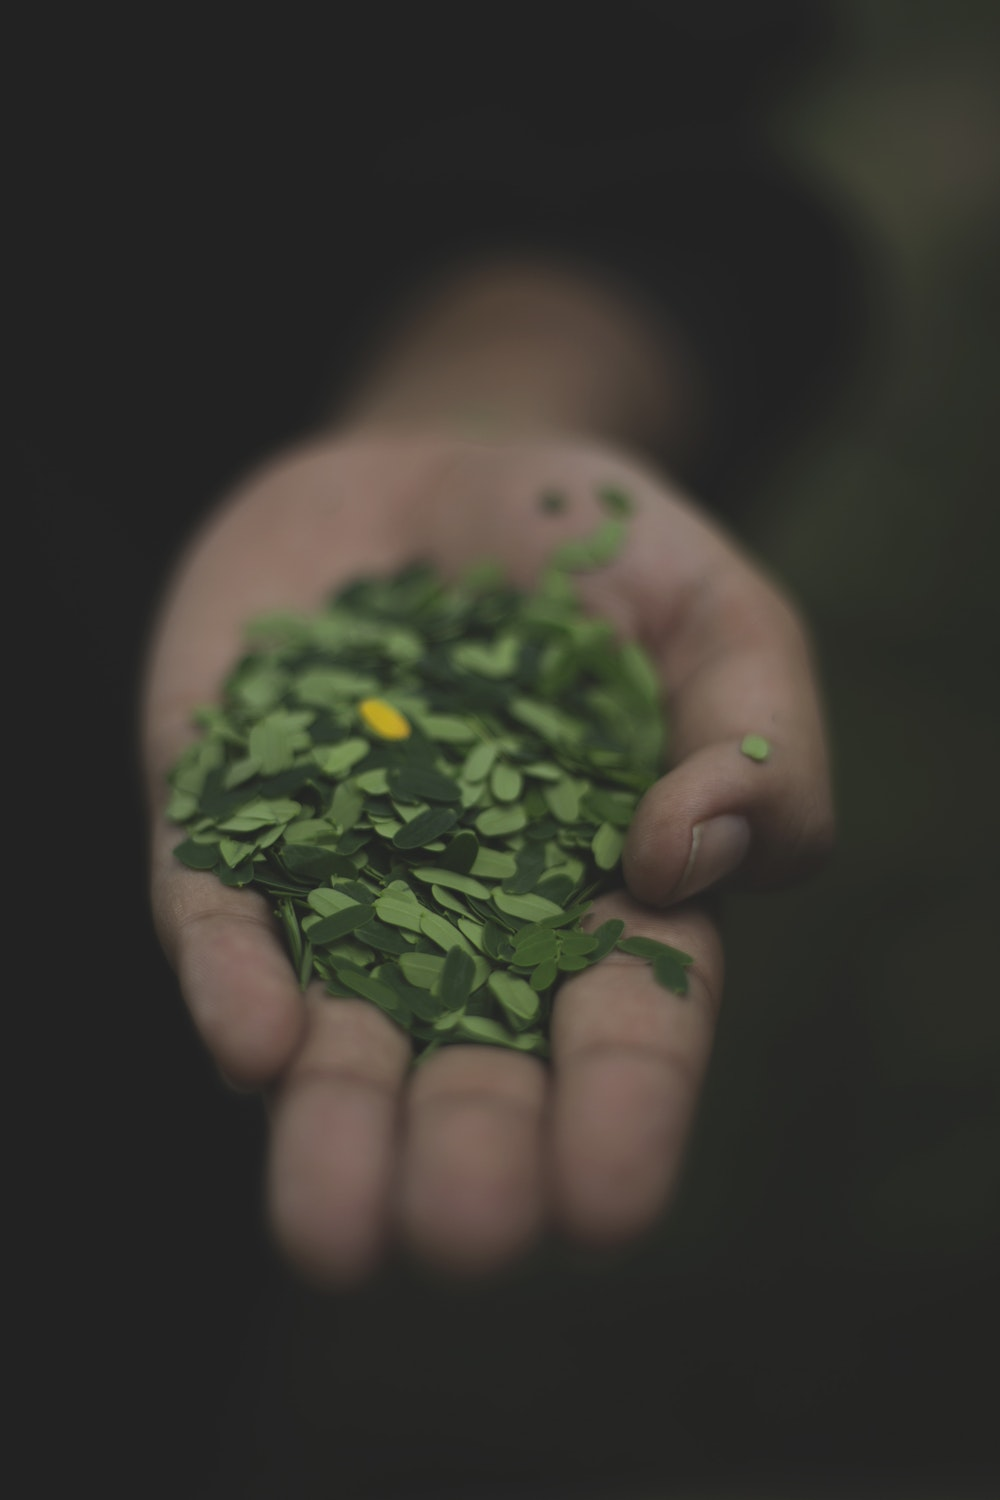palm: (218, 458, 739, 1004)
